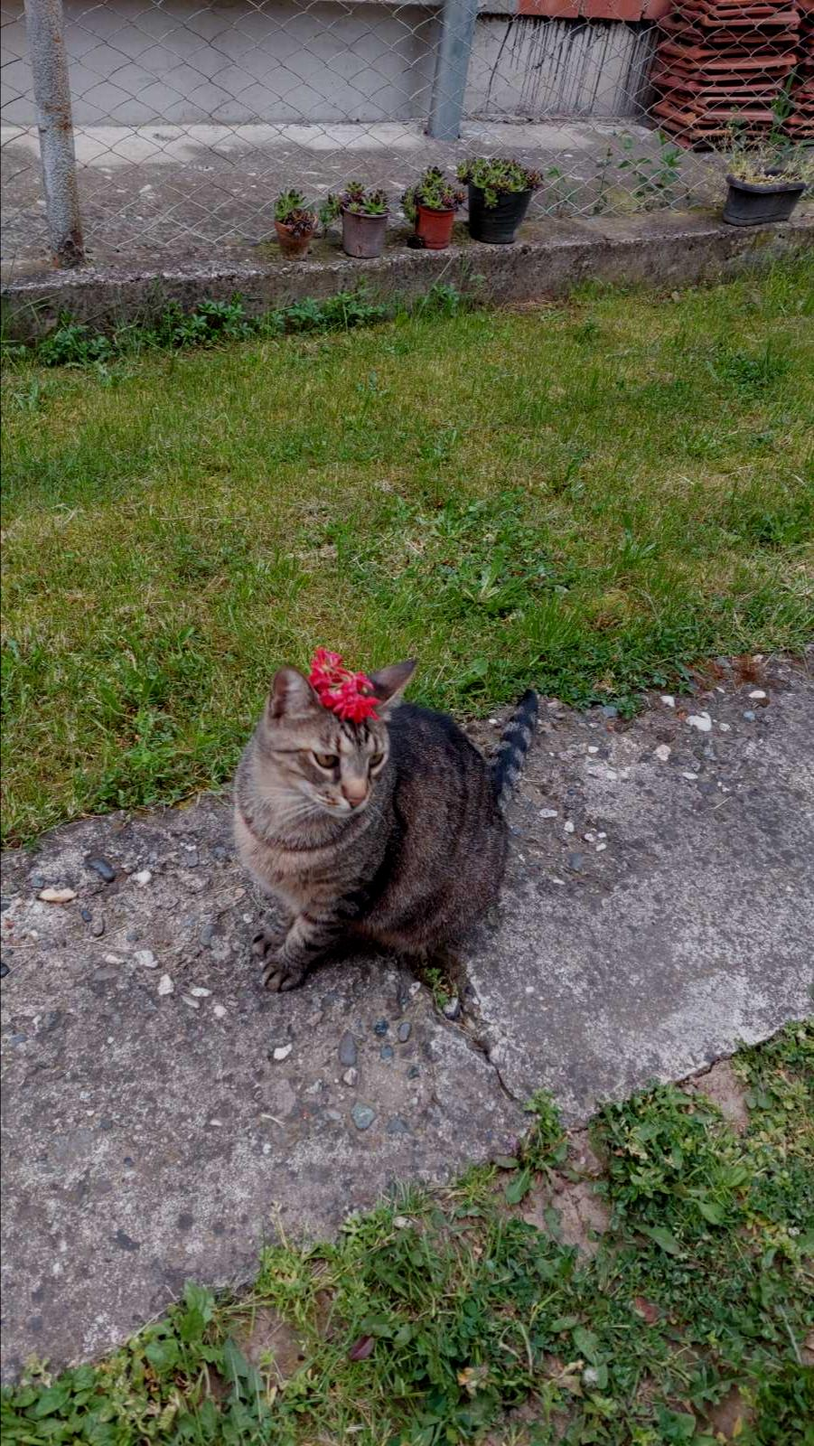macka: (231, 659, 537, 994)
